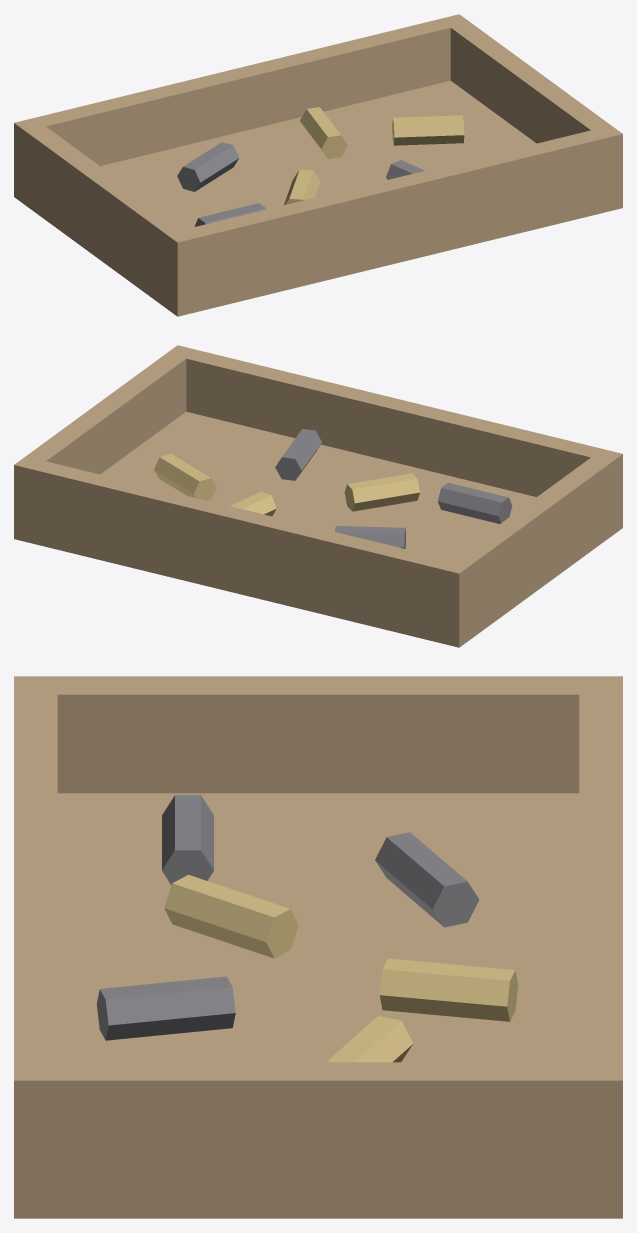
The model's file is prop-tumbler-pin-tray.fbx.
3 views of the same model, one above another, from view 1: azimuth 30°, elevation 25°; view 2: azimuth 150°, elevation 25°; view 3: azimuth 270°, elevation 25° (orthographic). The views are drawn at different scales.
Parts seen in each view (by area): view 1: prop-tumbler-pin-tray; view 2: prop-tumbler-pin-tray; view 3: prop-tumbler-pin-tray.
Boxes of the visible parts, x1,y1,x2,y2 form: prop-tumbler-pin-tray: (14, 14, 622, 316); prop-tumbler-pin-tray: (14, 345, 622, 647); prop-tumbler-pin-tray: (14, 676, 622, 1218).
Bounding box in the file's own units: 22 × 3.5 × 14.
